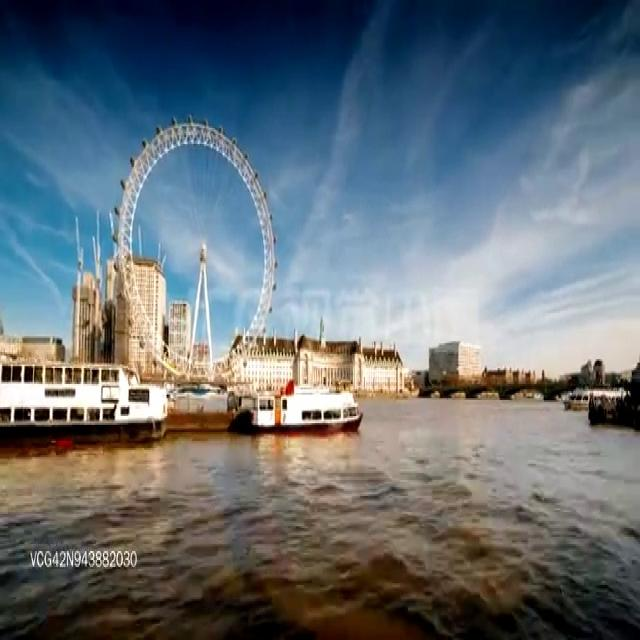passenger ship: (0, 353, 170, 440), (248, 375, 364, 431)
